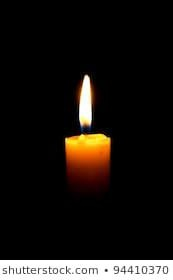fire: (77, 71, 94, 129)
